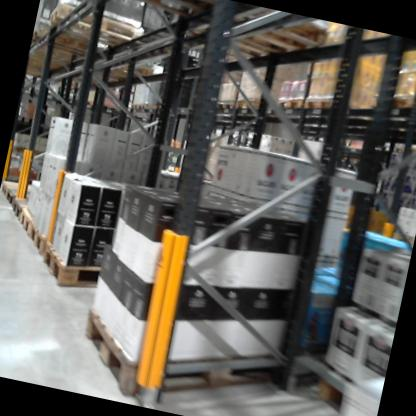pallet: (70, 275, 291, 416), (225, 5, 338, 69), (44, 0, 152, 58), (35, 237, 107, 296), (90, 0, 226, 30), (308, 357, 377, 416), (29, 24, 97, 66), (87, 53, 153, 82), (299, 90, 343, 123), (0, 184, 37, 214), (11, 203, 39, 242), (21, 221, 49, 258), (4, 195, 37, 226), (233, 92, 266, 119), (273, 94, 307, 120), (0, 178, 31, 199), (211, 97, 235, 117), (135, 101, 151, 111), (126, 100, 138, 111)
